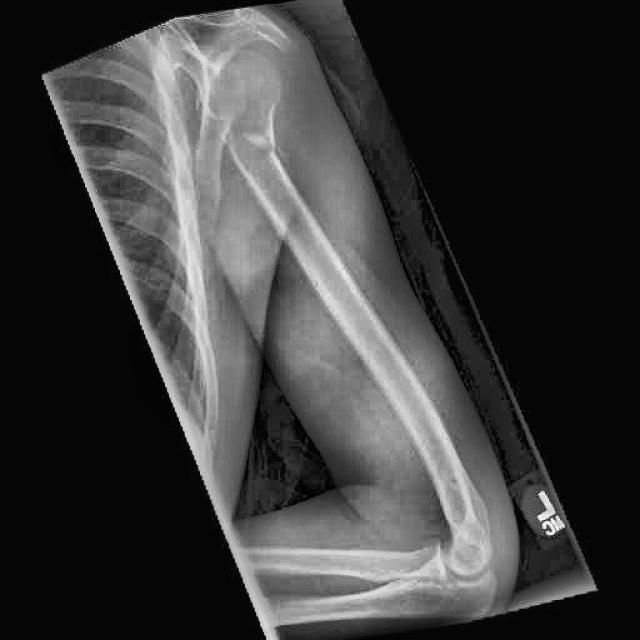humerus: (235, 100, 315, 195)
